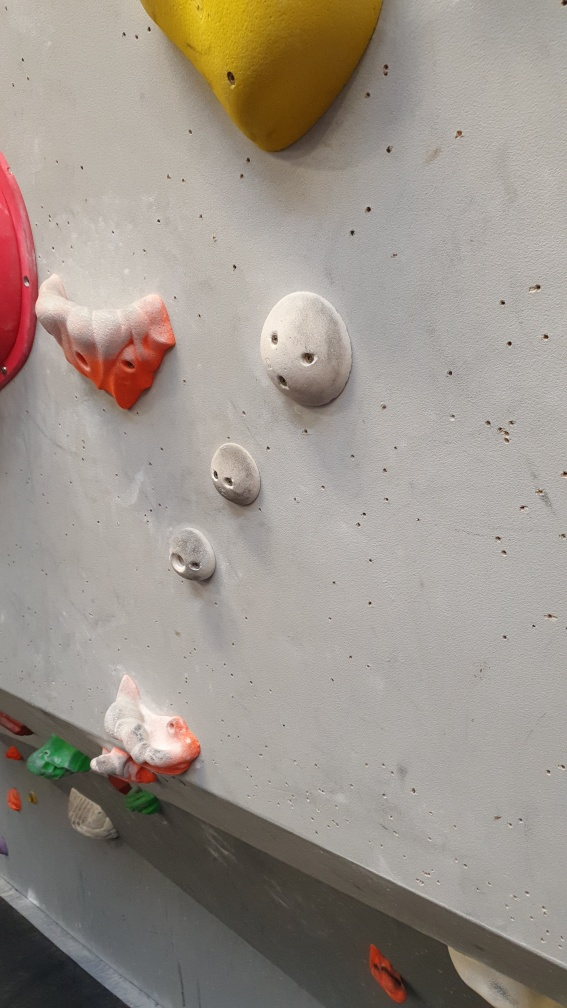Jug: (34, 272, 177, 414), (104, 675, 206, 787)
Sloper: (255, 290, 355, 415), (209, 439, 262, 506), (167, 523, 220, 587)
